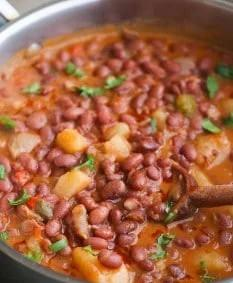RajmaCurry: (2, 23, 233, 283)
